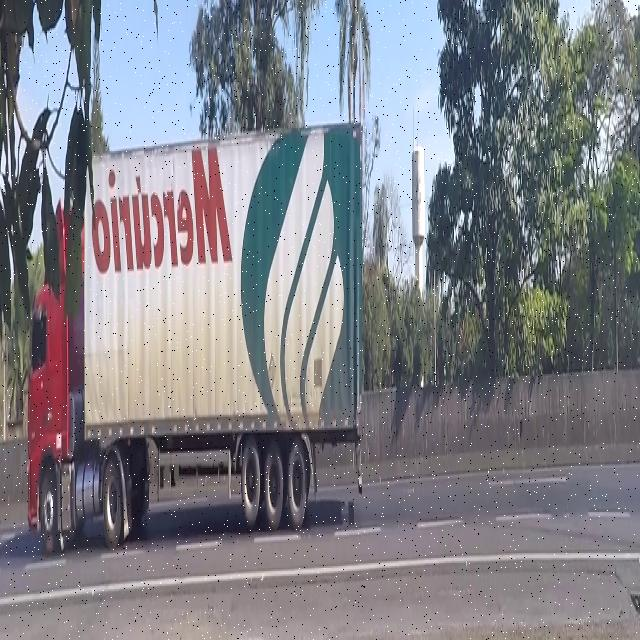-axle: (288, 429, 308, 542), (36, 450, 58, 549), (240, 434, 262, 530), (102, 454, 122, 556), (263, 436, 283, 532)
